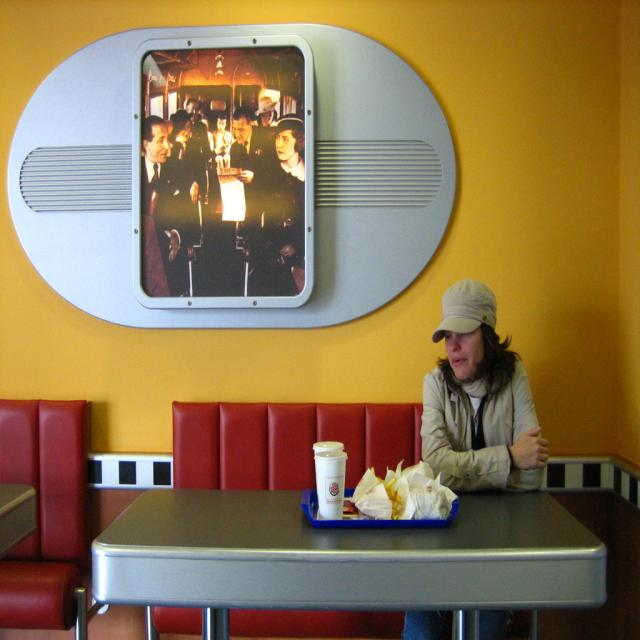chair: (0, 398, 92, 639)
desk: (74, 437, 548, 608)
person: (420, 279, 548, 640), (238, 114, 306, 297), (142, 116, 204, 297)
